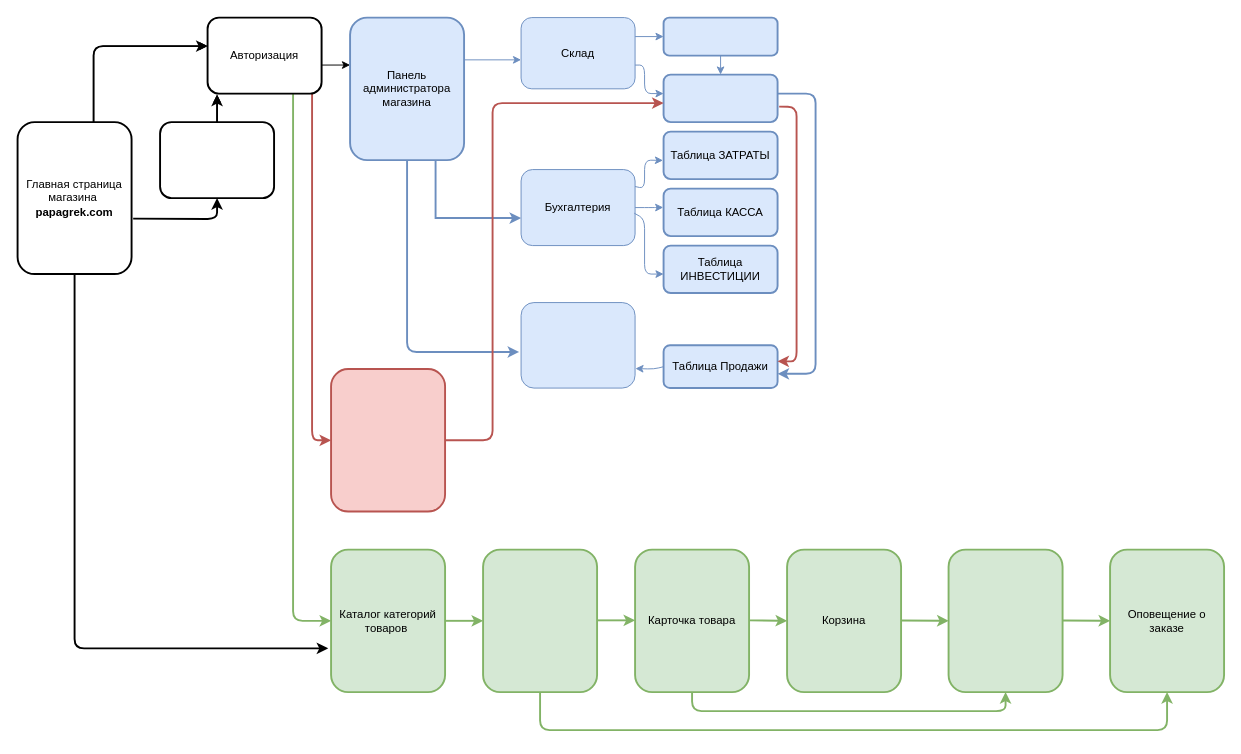
The diagram is 1241 pixels wide and 754 high, and some of its shapes have lost their labels. Here are the shapes that lost their labels. From the top down, the centre of each, then its label:
At [720,36]: "Таблица ЗАКАЗ".
At [720,98]: "Таблица СКЛАД".
At [217,160]: "Регистрация".
At [577,345]: "Аналитика".
At [388,440]: "Панель продавца магазина".
At [540,620]: "Каталог товаров".
At [1005,620]: "Заказ покупателя".
